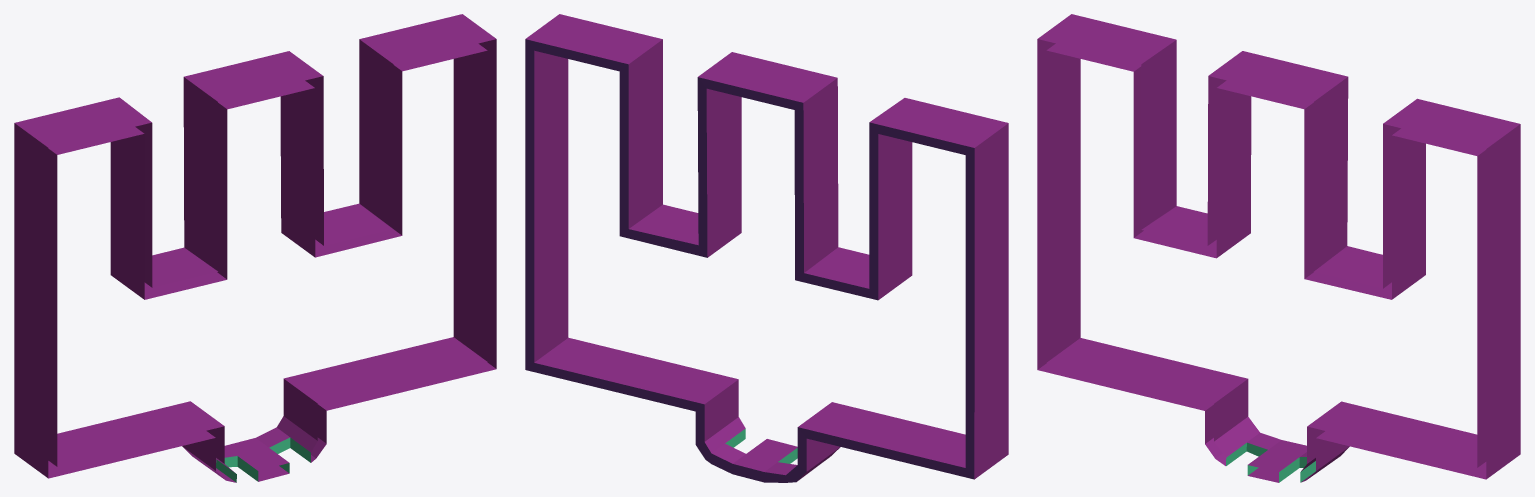
The model's file is Urząd Miejski Kilinskiego Tier 1.fbx.
The picture shows the model from 3 angles, left to right: view 1: azimuth 30°, elevation 25°; view 2: azimuth 150°, elevation 25°; view 3: azimuth 330°, elevation 25°; orthographic projection.
Parts seen in each view (by area): view 1: Urzad_miejski_kilinskiego; view 2: Urzad_miejski_kilinskiego; view 3: Urzad_miejski_kilinskiego.
Part boxes in pixels (bbox=[...]): Urzad_miejski_kilinskiego: bbox=[14, 14, 496, 482]; Urzad_miejski_kilinskiego: bbox=[525, 14, 1008, 482]; Urzad_miejski_kilinskiego: bbox=[1037, 14, 1520, 482].
Size of the model in its own units: 3.65 by 3.03 by 0.4921.
